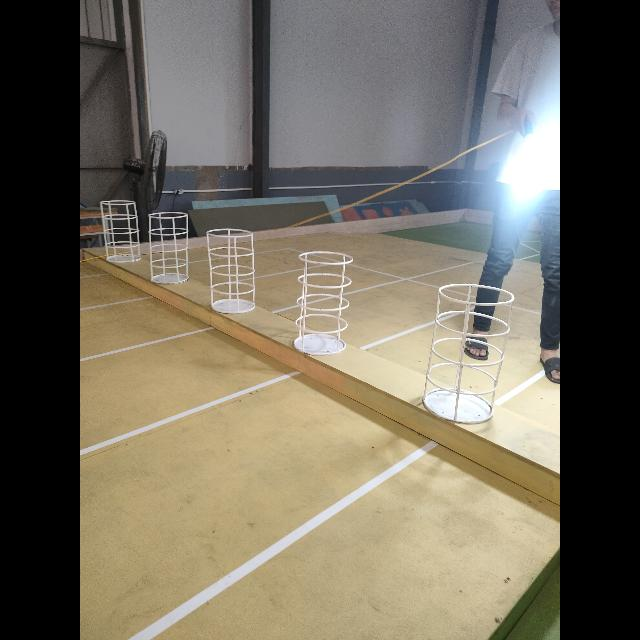S: (422, 281, 514, 423), (294, 251, 354, 355), (205, 228, 257, 314), (147, 211, 191, 285), (100, 198, 142, 264)
